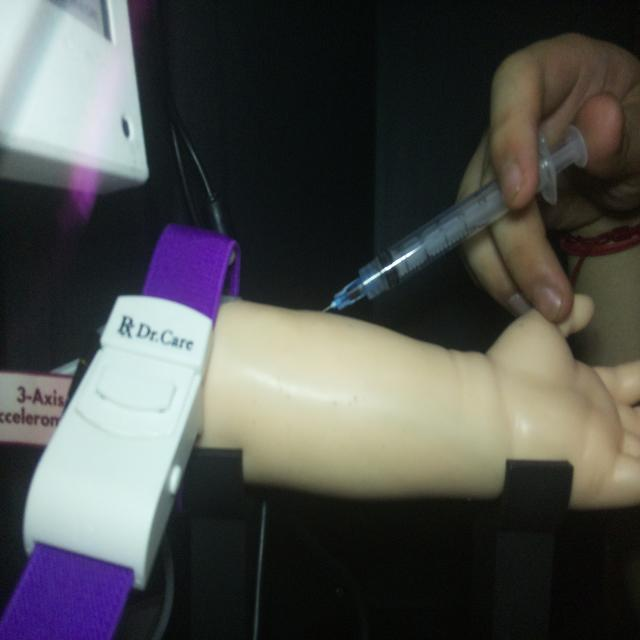24 degrees: (321, 122, 589, 316)
